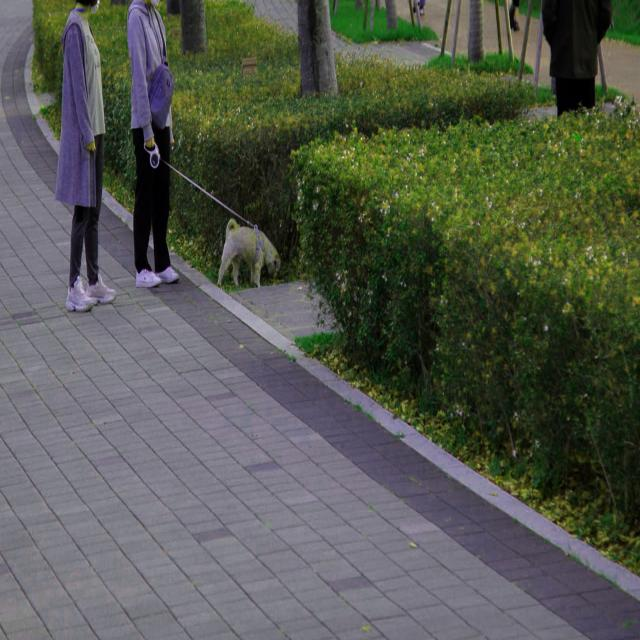Leashed_Dog: (136, 126, 280, 287)
